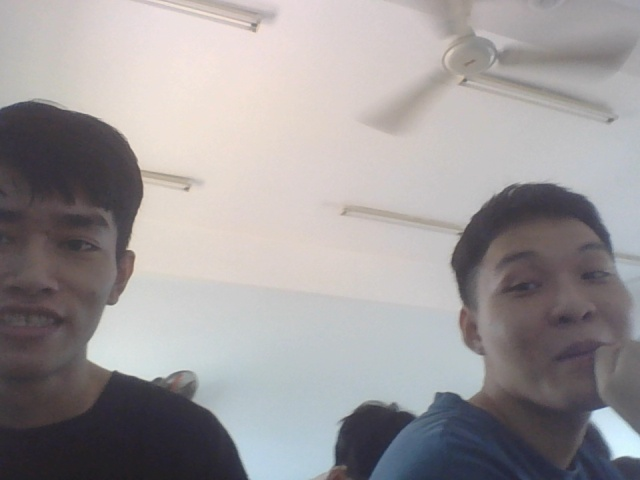real: (457, 156, 640, 428)
